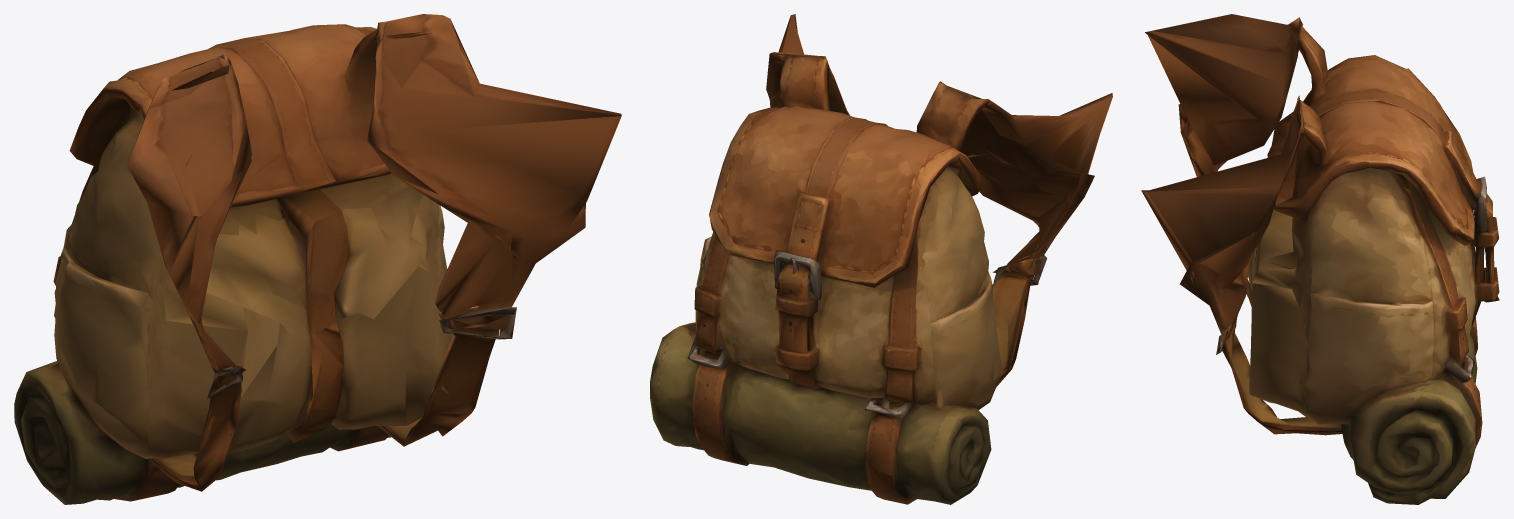
The model's file is small_pack.glb.
3 renders of one model, left to right at view 1: azimuth 30°, elevation 25°; view 2: azimuth 150°, elevation 25°; view 3: azimuth 270°, elevation 25°, orthographic. The views are drawn at different scales.
Parts seen in each view (by area): view 1: small_pack; view 2: small_pack; view 3: small_pack.
Boxes of the visible parts, <box> form: small_pack: <box>14,14,621,504</box>; small_pack: <box>650,14,1112,504</box>; small_pack: <box>1141,14,1499,504</box>.
Size of the model in its own units: 0.3889 by 0.4096 by 0.3549.
1 material, 1 textured.
